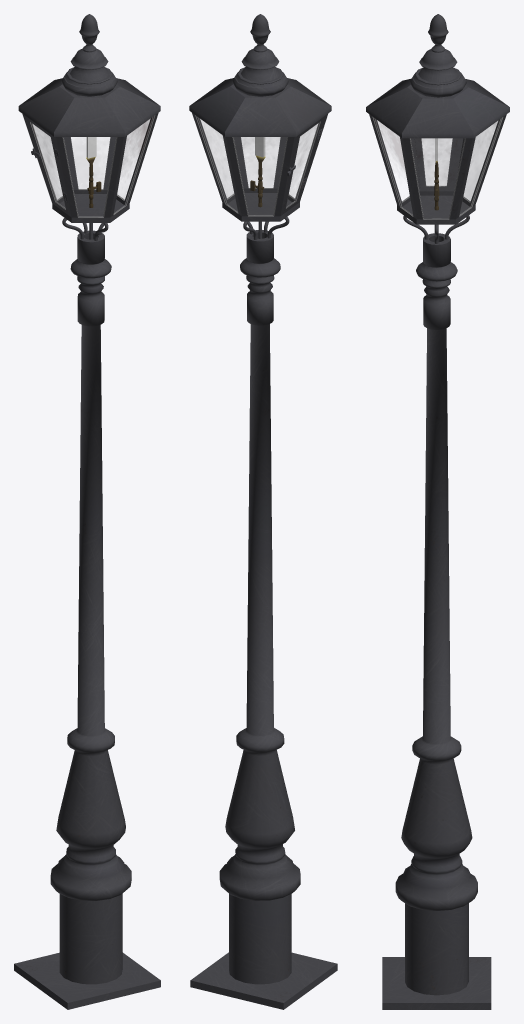
File: street.glb
3 renders of one model, left to right at view 1: azimuth 30°, elevation 25°; view 2: azimuth 150°, elevation 25°; view 3: azimuth 270°, elevation 25°, orthographic.
Parts seen in each view (by area): view 1: Victorian Gas Street Light; view 2: Victorian Gas Street Light; view 3: Victorian Gas Street Light.
Boxes of the visible parts, box(x1,y1,x2,y2) form: Victorian Gas Street Light: box(14, 14, 160, 1009); Victorian Gas Street Light: box(189, 14, 337, 1009); Victorian Gas Street Light: box(366, 14, 509, 1009).
Bounding box in the file's own units: 0.3651 × 3.15 × 0.421.
Materials: 2 (1 with a texture image).
